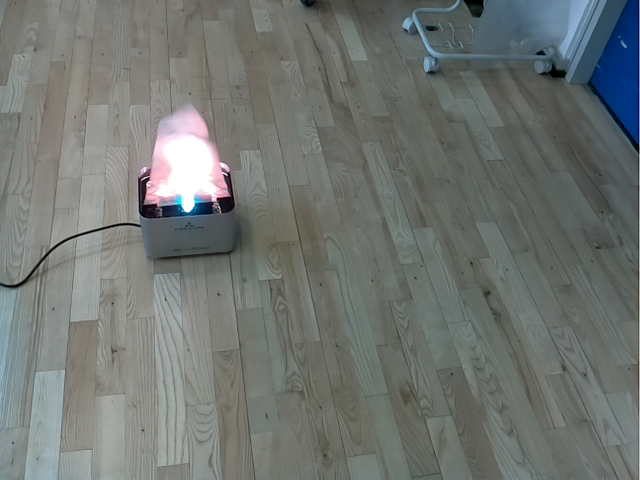fire: (143, 103, 229, 206)
